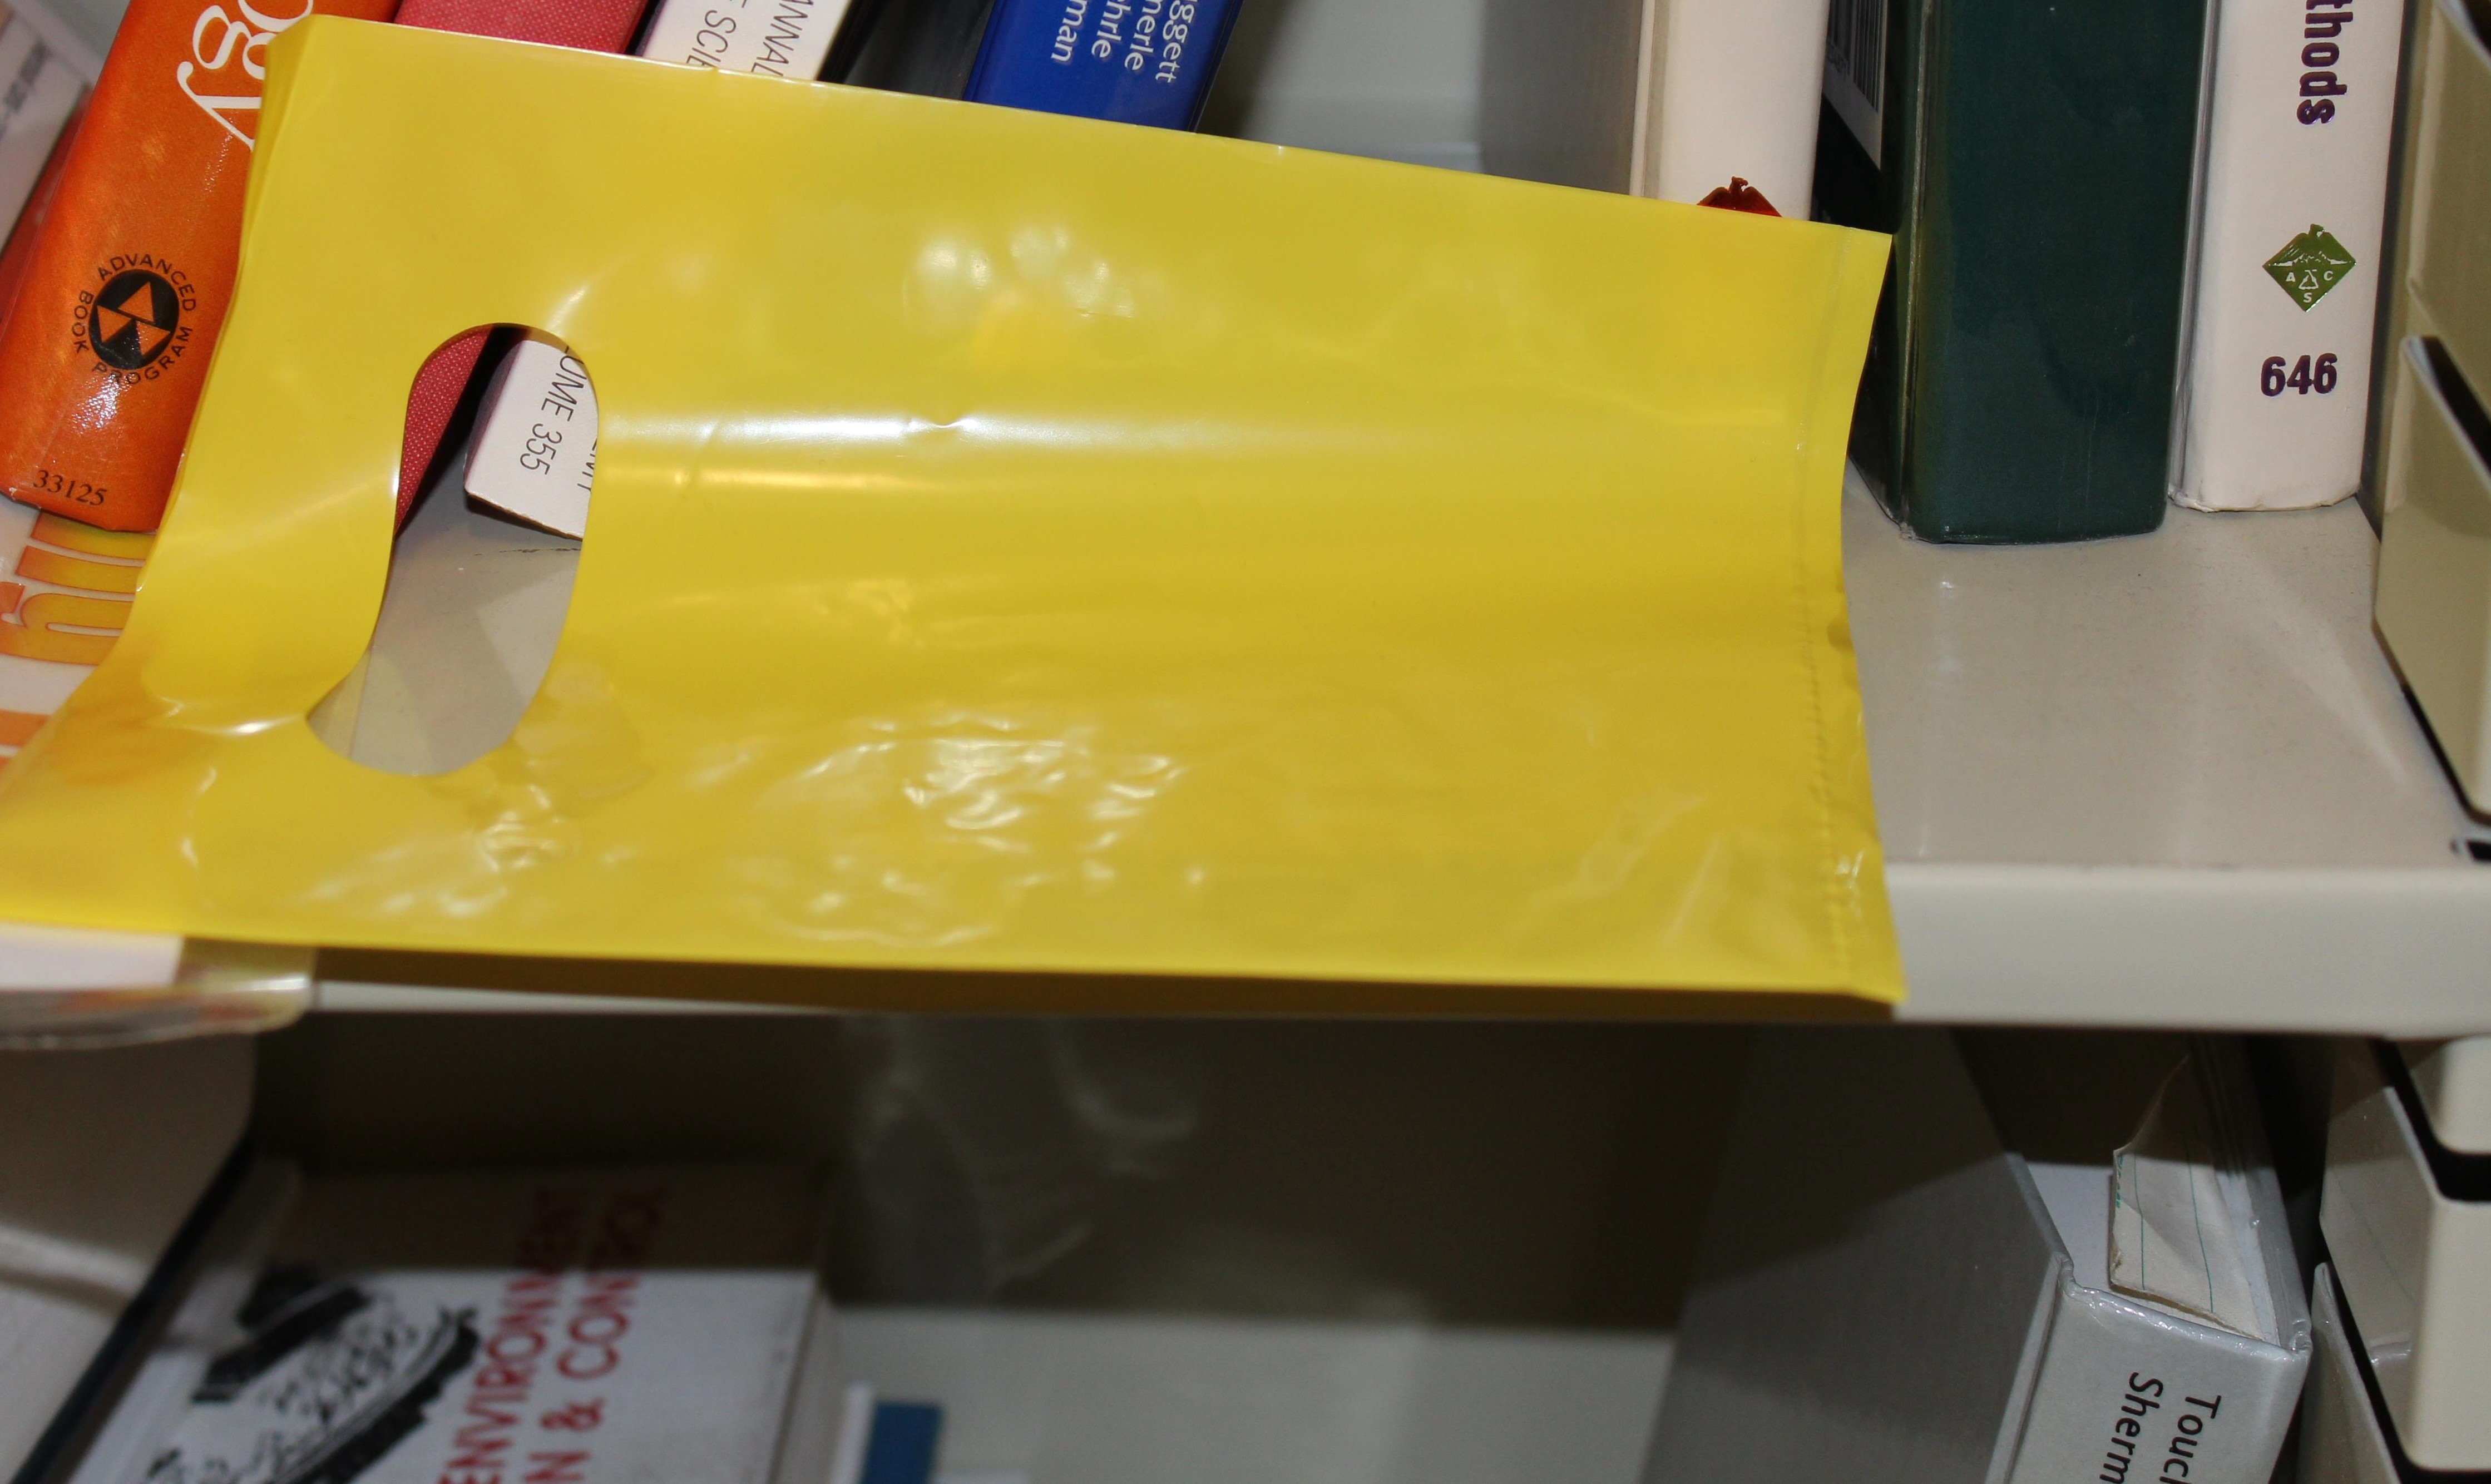yellowBag: (0, 4, 1950, 1086)
